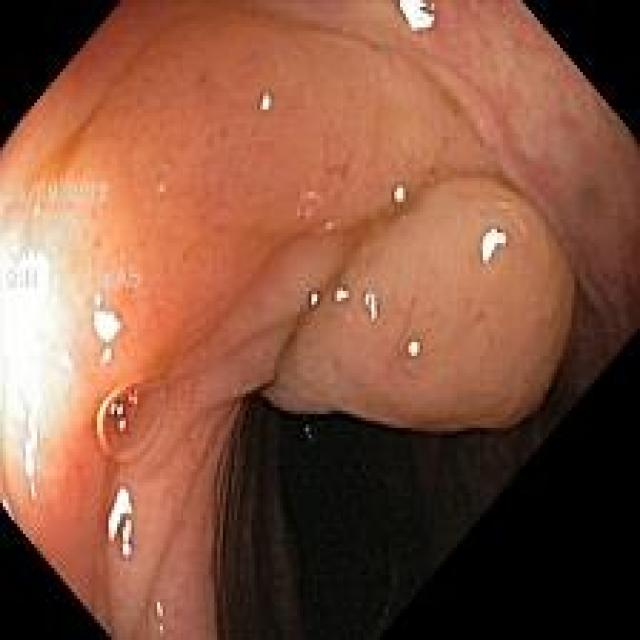Polyps: (265, 177, 574, 432)
